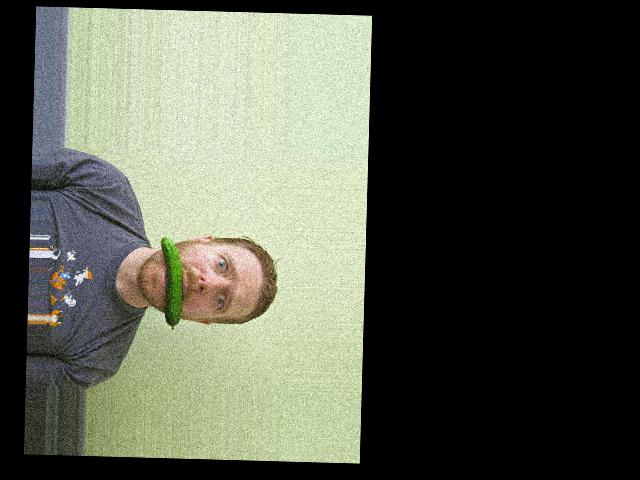cucumber: (157, 236, 184, 330)
